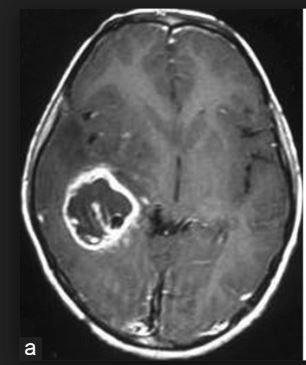Tumour-Meningioma: (33, 149, 157, 276)
